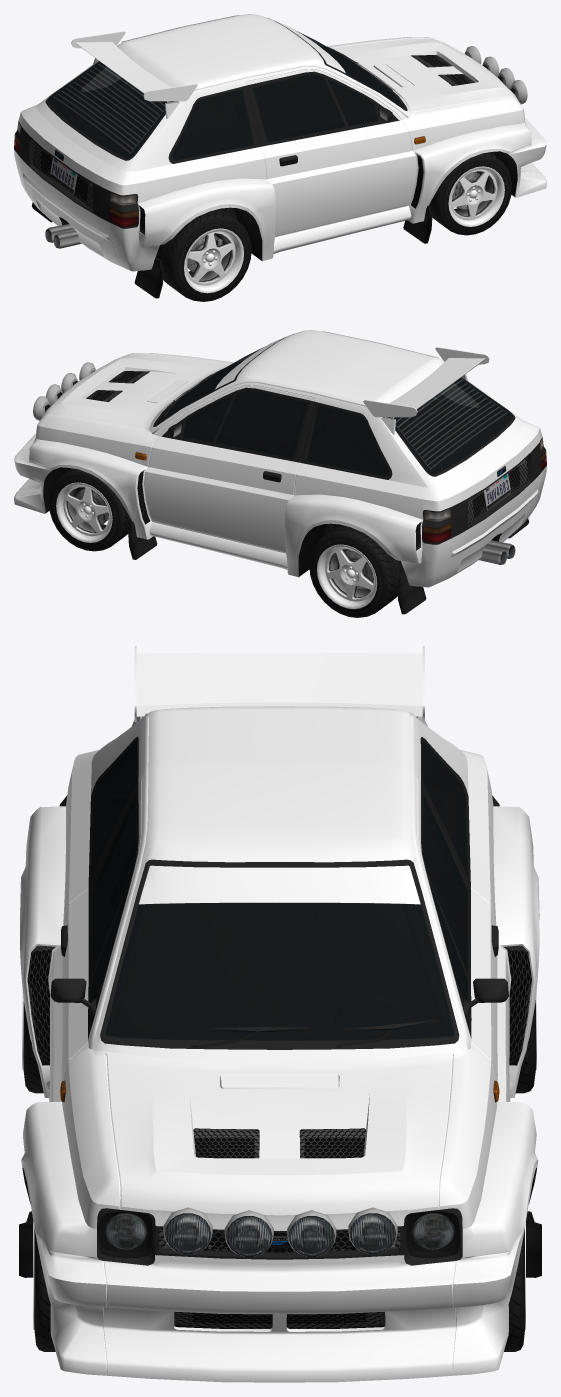
The model's file is PLCHTR.fbx.
3 renders of one model, top to bottom at view 1: azimuth 30°, elevation 25°; view 2: azimuth 150°, elevation 25°; view 3: azimuth 270°, elevation 25°, orthographic. The views are drawn at different scales.
Parts seen in each view (by area): view 1: PlaceholderMV683_Body, PlaceholderMV683_RallyBody, PlaceholderMV683_Interior, PlaceholderMV683_Rally_Hood, PlaceholderMV683_WheelSport_RR, PlaceholderMV683_Glass_Rear, PlaceholderMV683_RallyBody_Inner, PlaceholderMV683_Bottom, PlaceholderMV683_Glass_Body, PlaceholderMV683_WheelSport_FR, PlaceholderMV683_Glass_Passanger, PlaceholderMV683_Spoiler (+6 smaller); view 2: PlaceholderMV683_Body, PlaceholderMV683_RallyBody, PlaceholderMV683_Interior, PlaceholderMV683_Rally_Hood, PlaceholderMV683_WheelSport_RL, PlaceholderMV683_Glass_Rear, PlaceholderMV683_RallyBody_Inner, PlaceholderMV683_Bottom, PlaceholderMV683_Glass_Body, PlaceholderMV683_WheelSport_FL, PlaceholderMV683_Glass_Driver, PlaceholderMV683_Spoiler (+6 smaller); view 3: PlaceholderMV683_Body, PlaceholderMV683_Rally_Bumper_Front, PlaceholderMV683_Interior, PlaceholderMV683_Rally_Hood, PlaceholderMV683_Windshield, PlaceholderMV683_RallyBody, PlaceholderMV683_Bottom, PlaceholderMV683_Spoiler, PlaceholderMV683_RallyBody_Inner, PlaceholderMV683_Glass_Body, PlaceholderMV683_Rallylights_Headlights, PlaceholderMV683_Rally_Hood_Inner (+10 smaller).
Boxes of the visible parts, x1,y1,x2,y2 form: PlaceholderMV683_Body: (18, 14, 524, 236); PlaceholderMV683_RallyBody: (14, 21, 531, 271); PlaceholderMV683_Interior: (48, 46, 403, 159); PlaceholderMV683_Rally_Hood: (332, 38, 517, 111); PlaceholderMV683_WheelSport_RR: (156, 208, 251, 301); PlaceholderMV683_Glass_Rear: (48, 62, 172, 158); PlaceholderMV683_RallyBody_Inner: (32, 75, 517, 298); PlaceholderMV683_Bottom: (14, 18, 495, 235); PlaceholderMV683_Glass_Body: (81, 67, 378, 160); PlaceholderMV683_WheelSport_FR: (429, 152, 512, 235); PlaceholderMV683_Glass_Passanger: (253, 75, 345, 142); PlaceholderMV683_Spoiler: (71, 31, 197, 101); PlaceholderMV683_Body: (36, 330, 542, 552); PlaceholderMV683_RallyBody: (29, 337, 546, 587); PlaceholderMV683_Interior: (157, 362, 512, 475); PlaceholderMV683_Rally_Hood: (43, 354, 230, 427); PlaceholderMV683_WheelSport_RL: (309, 524, 404, 617); PlaceholderMV683_Glass_Rear: (388, 378, 512, 474); PlaceholderMV683_RallyBody_Inner: (43, 391, 528, 614); PlaceholderMV683_Bottom: (65, 334, 546, 550); PlaceholderMV683_Glass_Body: (182, 383, 479, 476); PlaceholderMV683_WheelSport_FL: (48, 468, 131, 551); PlaceholderMV683_Glass_Driver: (215, 391, 307, 458); PlaceholderMV683_Spoiler: (363, 347, 489, 417); PlaceholderMV683_Body: (49, 706, 509, 1228); PlaceholderMV683_Rally_Bumper_Front: (34, 1225, 525, 1382); PlaceholderMV683_Interior: (91, 741, 467, 1040); PlaceholderMV683_Rally_Hood: (106, 1052, 453, 1230); PlaceholderMV683_Windshield: (105, 902, 453, 1040); PlaceholderMV683_RallyBody: (20, 716, 539, 1259); PlaceholderMV683_Bottom: (59, 736, 499, 1265); PlaceholderMV683_Spoiler: (134, 646, 424, 721); PlaceholderMV683_RallyBody_Inner: (19, 796, 541, 1277); PlaceholderMV683_Glass_Body: (91, 741, 467, 1002); PlaceholderMV683_Rallylights_Headlights: (165, 1213, 395, 1256); PlaceholderMV683_Rally_Hood_Inner: (193, 1128, 365, 1158).
Size of the model in its own units: 3.24 by 1.37 by 1.62.
